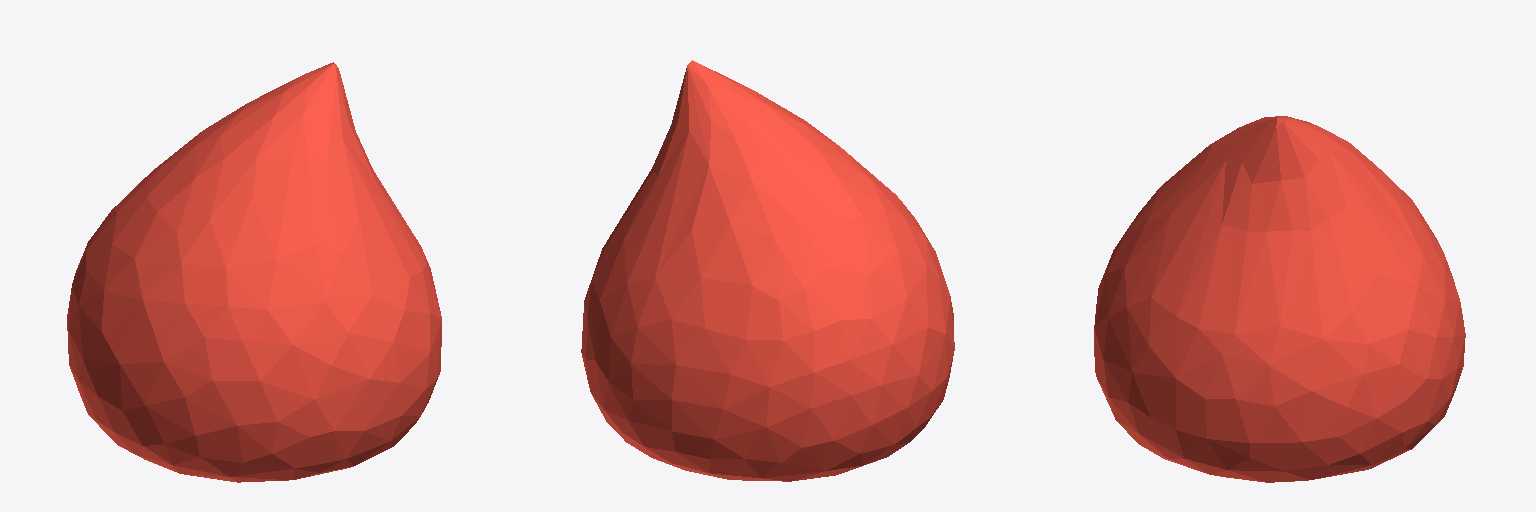
The model's file is Whip_pink.obj.
3 views of the same model, side by side, from view 1: azimuth 30°, elevation 25°; view 2: azimuth 150°, elevation 25°; view 3: azimuth 270°, elevation 25° (orthographic).
Visible parts, largest first — view 1: Whip_pink; view 2: Whip_pink; view 3: Whip_pink.
Boxes of the visible parts, x1,y1,x2,y2 form: Whip_pink: [67, 62, 441, 482]; Whip_pink: [581, 60, 954, 481]; Whip_pink: [1094, 116, 1465, 482].
Size of the model in its own units: 1.08 by 1.12 by 1.08.